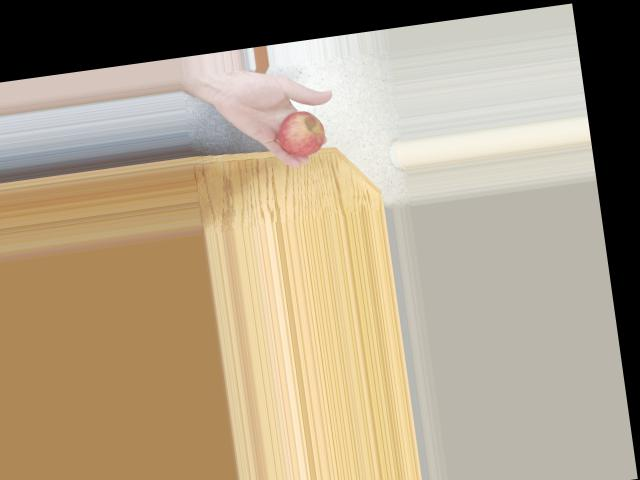apple: (268, 103, 328, 159)
